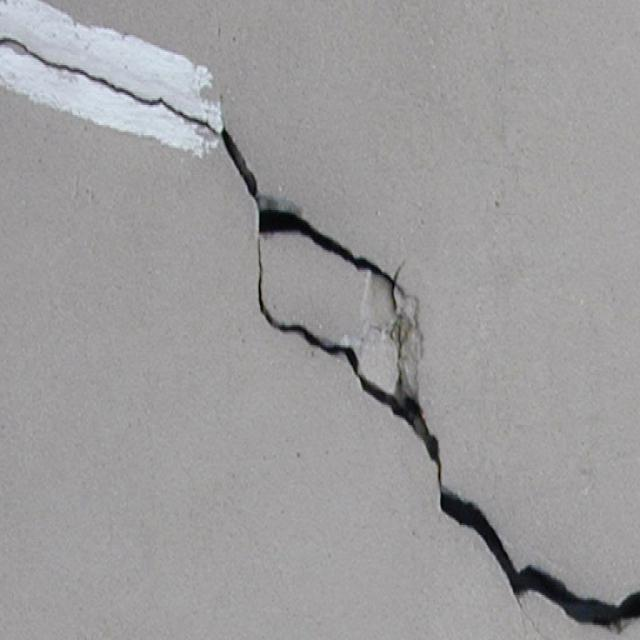crack: (0, 30, 260, 203), (438, 482, 639, 638)
spall: (254, 199, 446, 478)
